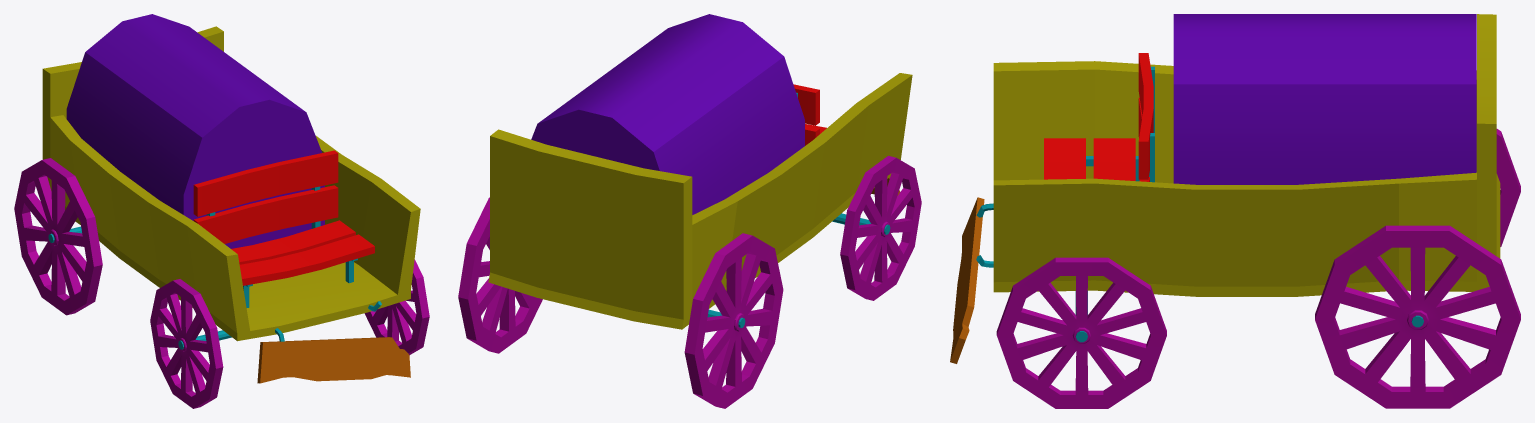
Rendered from horsecarriage.fbx.
3 renders of one model, left to right at view 1: azimuth 30°, elevation 25°; view 2: azimuth 150°, elevation 25°; view 3: azimuth 270°, elevation 25°, orthographic. The views are drawn at different scales.
Visible parts, largest first — view 1: maincarriage, back, wheels, benchwood, brokenboard, metal; view 2: maincarriage, back, wheels, benchwood; view 3: maincarriage, back, wheels, benchwood, brokenboard, metal.
Part boxes in pixels (left/top/right/bottom): maincarriage: left=42, top=26, right=420, bottom=341; back: left=66, top=14, right=324, bottom=248; wheels: left=14, top=158, right=429, bottom=408; benchwood: left=193, top=150, right=374, bottom=285; brokenboard: left=257, top=337, right=410, bottom=383; metal: left=48, top=186, right=381, bottom=349; maincarriage: left=488, top=73, right=912, bottom=329; back: left=531, top=14, right=804, bottom=214; wheels: left=458, top=155, right=921, bottom=408; benchwood: left=793, top=84, right=826, bottom=145; maincarriage: left=993, top=14, right=1500, bottom=296; back: left=1173, top=14, right=1476, bottom=184; wheels: left=996, top=129, right=1520, bottom=408; benchwood: left=1044, top=53, right=1153, bottom=181; brokenboard: left=950, top=197, right=984, bottom=363; metal: left=976, top=66, right=1423, bottom=342.
Size of the model in its own units: 95.43 by 103 by 167.
